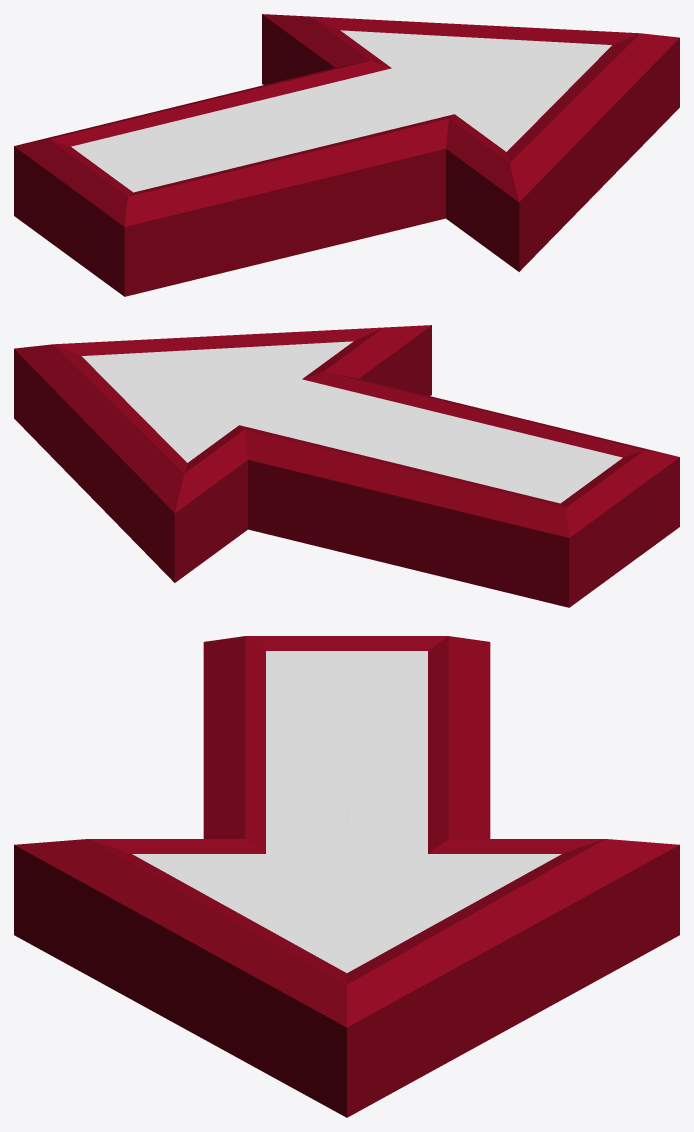
The model's file is arrow.fbx.
3 renders of one model, top to bottom at view 1: azimuth 30°, elevation 25°; view 2: azimuth 150°, elevation 25°; view 3: azimuth 270°, elevation 25°, orthographic. The views are drawn at different scales.
Parts seen in each view (by area): view 1: Arrow; view 2: Arrow; view 3: Arrow.
Boxes of the visible parts, left/top/right/bottom form: Arrow: left=14, top=14, right=679, bottom=296; Arrow: left=14, top=325, right=679, bottom=607; Arrow: left=14, top=636, right=679, bottom=1117.
Bounding box in the file's own units: 119 × 18.22 × 87.
Materials: 1 (1 with a texture image).
